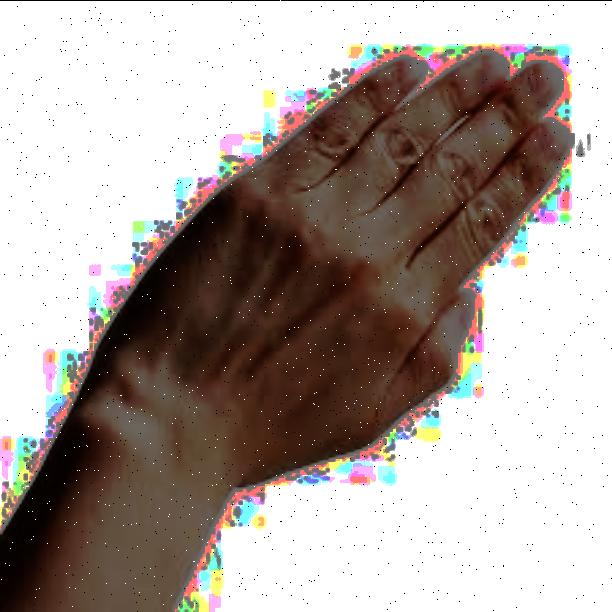Paper: (107, 48, 580, 482)
